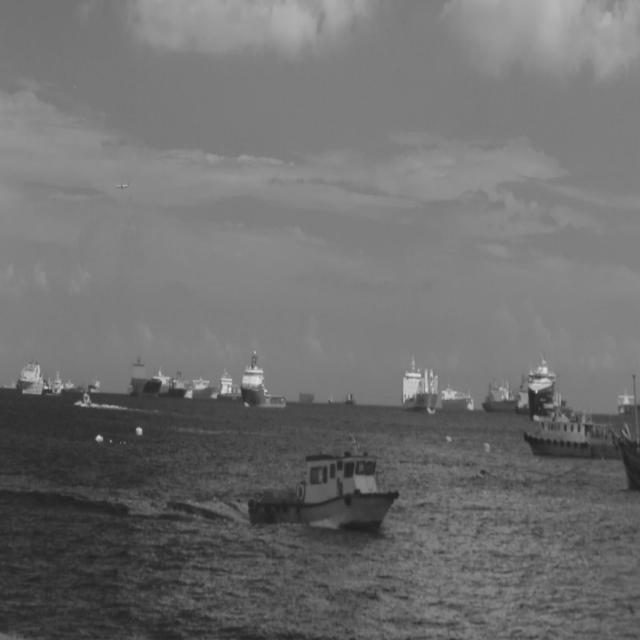buoy: (134, 425, 144, 437)
ship: (246, 427, 399, 534), (524, 385, 620, 459), (240, 345, 286, 408), (528, 348, 568, 420), (401, 353, 438, 414), (126, 354, 162, 398), (481, 371, 518, 412), (618, 429, 639, 493), (17, 354, 45, 396), (440, 379, 474, 412), (183, 372, 218, 400), (217, 363, 241, 401), (166, 362, 190, 397), (618, 386, 640, 416), (328, 392, 357, 408), (50, 368, 66, 396), (88, 376, 101, 394), (80, 390, 92, 408)
